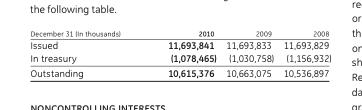table: (29, 28, 330, 78)
table column: (29, 28, 143, 78), (143, 28, 220, 78), (220, 28, 277, 78), (277, 28, 330, 78)
table column header: (29, 28, 330, 38)
table row: (29, 51, 330, 65), (29, 38, 330, 51), (29, 65, 330, 78), (29, 28, 330, 38)
